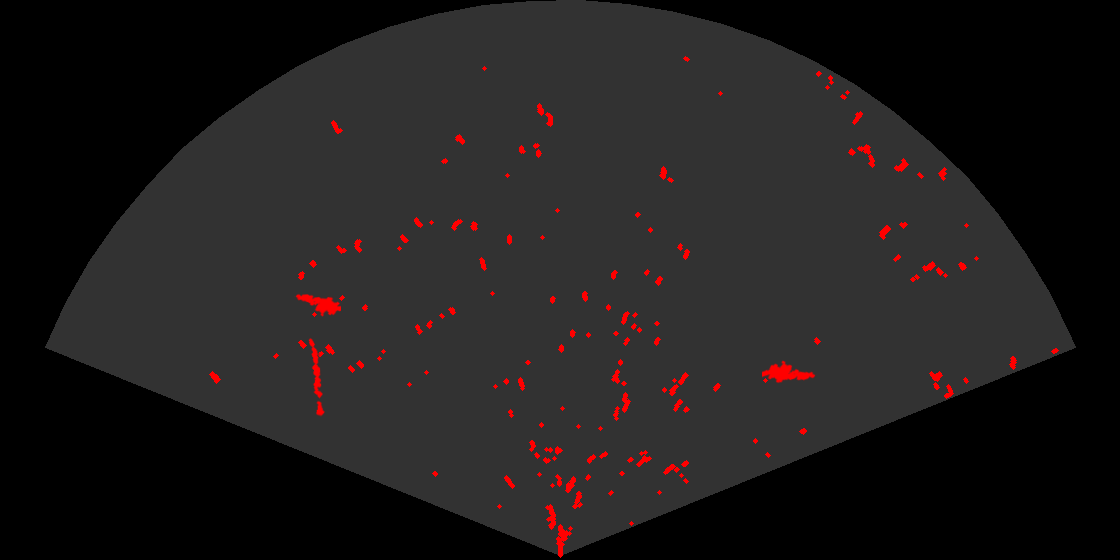chain: (307, 336, 326, 417)
frogman: (762, 359, 817, 385), (294, 292, 341, 318)
